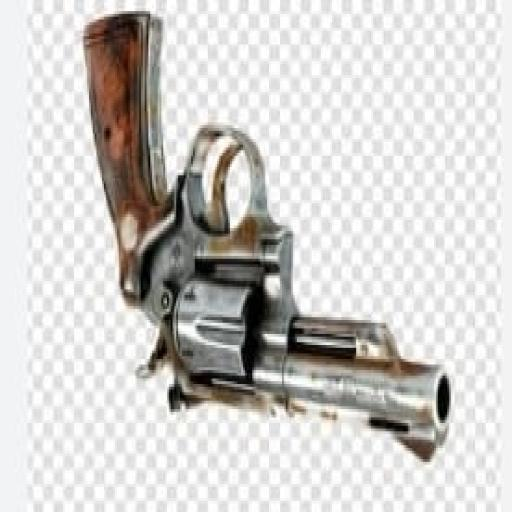Gun: (85, 11, 449, 456)
